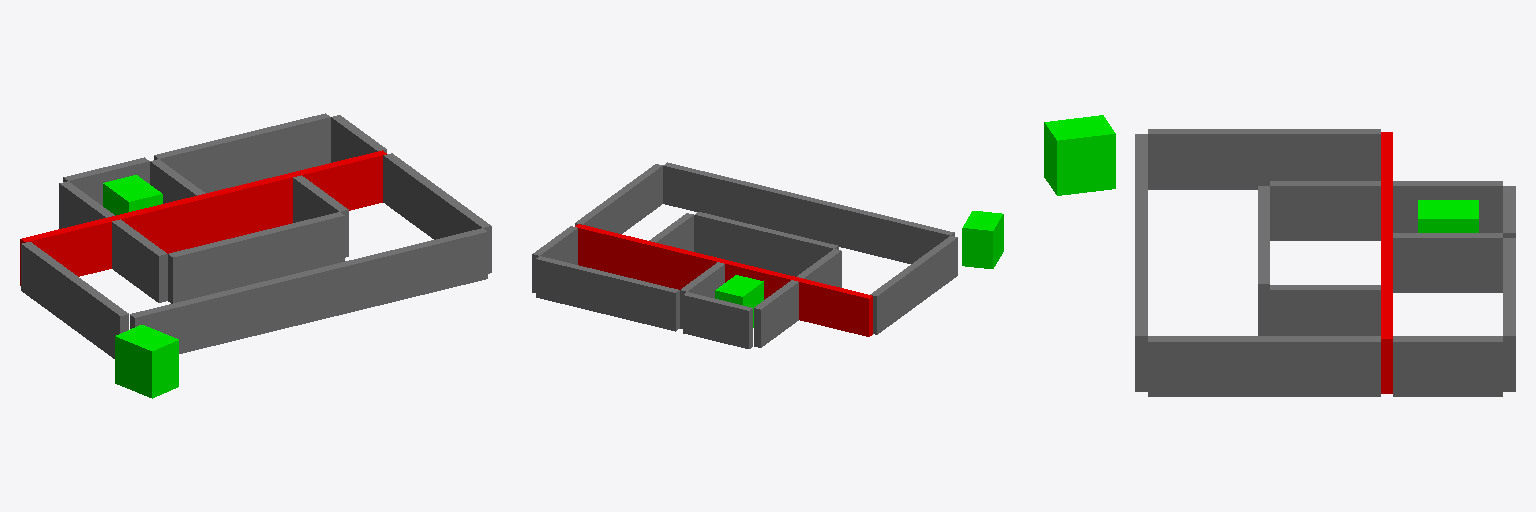
The robot description file, URDF, robot "move_n_times3":
<?xml version="1.0"?>
<!-- created with Phobos 1.0.1 "Capricious Choutengan" -->
  <robot name="move_n_times3">

    <link name="base_link">
    </link>

    <link name="goal">
    </link>

    <link name="link_0_joint_0">
      <visual name="visual_box_2_link_0">
        <origin xyz="0 0 0" rpy="0 0 0"/>
        <geometry>
          <box size="0.374 0.499 0.499"/>
        </geometry>
        <material name="green"/>
      </visual>
      <collision name="collision_box_2_link_0">
        <origin xyz="0 0 0" rpy="0 0 0"/>
        <geometry>
          <box size="0.374 0.499 0.499"/>
        </geometry>
      </collision>
    </link>

    <link name="link_0_joint_0.001">
      <visual name="visual_box_2_link_0.001">
        <origin xyz="0 0 0" rpy="0 0 0"/>
        <geometry>
          <box size="0.37363 0.4985 0.4985"/>
        </geometry>
        <material name="green_translucent"/>
      </visual>
    </link>

    <link name="link_0_joint_1">
    </link>

    <link name="link_0_joint_1.001">
    </link>

    <link name="link_0_joint_2">
    </link>

    <link name="link_1_joint_0">
      <visual name="visual_box_3_link_1">
        <origin xyz="0 0 0" rpy="0 0 0"/>
        <geometry>
          <box size="3.999 0.099 0.499"/>
        </geometry>
        <material name="red"/>
      </visual>
      <collision name="collision_box_3_link_1">
        <origin xyz="0 0 0" rpy="0 0 0"/>
        <geometry>
          <box size="3.999 0.099 0.499"/>
        </geometry>
      </collision>
    </link>

    <link name="link_fixed_10_wall_south_2">
      <visual name="visual_box_fixed_10_wall_south_2">
        <origin xyz="0 0 0" rpy="0 0 0"/>
        <geometry>
          <box size="3.899 0.099 0.499"/>
        </geometry>
        <material name="gray"/>
      </visual>
      <collision name="collision_box_fixed_10_wall_south_2">
        <origin xyz="0 0 0" rpy="0 0 0"/>
        <geometry>
          <box size="3.899 0.099 0.499"/>
        </geometry>
      </collision>
    </link>

    <link name="link_fixed_11_wall_southwest_2">
      <visual name="visual_box_fixed_11_wall_southwest_2">
        <origin xyz="0 0 0" rpy="0 0 0"/>
        <geometry>
          <box size="0.099 1.899 0.499"/>
        </geometry>
        <material name="gray"/>
      </visual>
      <collision name="collision_box_fixed_11_wall_southwest_2">
        <origin xyz="0 0 0" rpy="0 0 0"/>
        <geometry>
          <box size="0.099 1.899 0.499"/>
        </geometry>
      </collision>
    </link>

    <link name="link_fixed_12_wall_southeast_2">
      <visual name="visual_box_fixed_12_wall_southeast_2">
        <origin xyz="0 0 0" rpy="0 0 0"/>
        <geometry>
          <box size="0.099 1.899 0.499"/>
        </geometry>
        <material name="gray"/>
      </visual>
      <collision name="collision_box_fixed_12_wall_southeast_2">
        <origin xyz="0 0 0" rpy="0 0 0"/>
        <geometry>
          <box size="0.099 1.899 0.499"/>
        </geometry>
      </collision>
    </link>

    <link name="link_fixed_13_wall_north_2">
      <visual name="visual_box_fixed_13_wall_north_2">
        <origin xyz="0 0 0" rpy="0 0 0"/>
        <geometry>
          <box size="1.899 0.099 0.499"/>
        </geometry>
        <material name="gray"/>
      </visual>
      <collision name="collision_box_fixed_13_wall_north_2">
        <origin xyz="0 0 0" rpy="0 0 0"/>
        <geometry>
          <box size="1.899 0.099 0.499"/>
        </geometry>
      </collision>
    </link>

    <link name="link_fixed_14_wall_north_side_2">
      <visual name="visual_box_fixed_14_wall_north_side_2">
        <origin xyz="0 0 0" rpy="0 0 0"/>
        <geometry>
          <box size="0.099 0.899 0.499"/>
        </geometry>
        <material name="gray"/>
      </visual>
      <collision name="collision_box_fixed_14_wall_north_side_2">
        <origin xyz="0 0 0" rpy="0 0 0"/>
        <geometry>
          <box size="0.099 0.899 0.499"/>
        </geometry>
      </collision>
    </link>

    <link name="link_fixed_4_wall_north_0">
      <visual name="visual_box_fixed_4_wall_north_0">
        <origin xyz="0 0 0" rpy="0 0 0"/>
        <geometry>
          <box size="0.899 0.099 0.499"/>
        </geometry>
        <material name="gray"/>
      </visual>
      <collision name="collision_box_fixed_4_wall_north_0">
        <origin xyz="0 0 0" rpy="0 0 0"/>
        <geometry>
          <box size="0.899 0.099 0.499"/>
        </geometry>
      </collision>
    </link>

    <link name="link_fixed_5_wall_northwest_0">
      <visual name="visual_box_fixed_5_wall_northwest_0">
        <origin xyz="0 0 0" rpy="0 0 0"/>
        <geometry>
          <box size="0.099 0.899 0.499"/>
        </geometry>
        <material name="gray"/>
      </visual>
      <collision name="collision_box_fixed_5_wall_northwest_0">
        <origin xyz="0 0 0" rpy="0 0 0"/>
        <geometry>
          <box size="0.099 0.899 0.499"/>
        </geometry>
      </collision>
    </link>

    <link name="link_fixed_6_wall_northeast_0">
      <visual name="visual_box_fixed_6_wall_northeast_0">
        <origin xyz="0 0 0" rpy="0 0 0"/>
        <geometry>
          <box size="0.099 0.899 0.499"/>
        </geometry>
        <material name="gray"/>
      </visual>
      <collision name="collision_box_fixed_6_wall_northeast_0">
        <origin xyz="0 0 0" rpy="0 0 0"/>
        <geometry>
          <box size="0.099 0.899 0.499"/>
        </geometry>
      </collision>
    </link>

    <link name="link_fixed_7_wall_south_1">
      <visual name="visual_box_fixed_7_wall_south_1">
        <origin xyz="0 0 0" rpy="0 0 0"/>
        <geometry>
          <box size="1.899 0.099 0.499"/>
        </geometry>
        <material name="gray"/>
      </visual>
      <collision name="collision_box_fixed_7_wall_south_1">
        <origin xyz="0 0 0" rpy="0 0 0"/>
        <geometry>
          <box size="1.899 0.099 0.499"/>
        </geometry>
      </collision>
    </link>

    <link name="link_fixed_8_wall_southwest_1">
      <visual name="visual_box_fixed_8_wall_southwest_1">
        <origin xyz="0 0 0" rpy="0 0 0"/>
        <geometry>
          <box size="0.099 0.899 0.499"/>
        </geometry>
        <material name="gray"/>
      </visual>
      <collision name="collision_box_fixed_8_wall_southwest_1">
        <origin xyz="0 0 0" rpy="0 0 0"/>
        <geometry>
          <box size="0.099 0.899 0.499"/>
        </geometry>
      </collision>
    </link>

    <link name="link_fixed_9_wall_southeast_1">
      <visual name="visual_box_fixed_9_wall_southeast_1">
        <origin xyz="0 0 0" rpy="0 0 0"/>
        <geometry>
          <box size="0.099 0.899 0.499"/>
        </geometry>
        <material name="gray"/>
      </visual>
      <collision name="collision_box_fixed_9_wall_southeast_1">
        <origin xyz="0 0 0" rpy="0 0 0"/>
        <geometry>
          <box size="0.099 0.899 0.499"/>
        </geometry>
      </collision>
    </link>

    <joint name="goal" type="fixed">
      <origin xyz="-1.57221 -3.0 0.25" rpy="0 0 0.27791"/>
      <parent link="base_link"/>
      <child link="goal"/>
      <limit effort="0" velocity="0"/>
    </joint>

    <joint name="link_0_joint_0" type="revolute">
      <origin xyz="0 0 0" rpy="0 0 0"/>
      <parent link="link_0_joint_1"/>
      <child link="link_0_joint_0"/>
      <axis xyz="0 0 1.0"/>
      <limit lower="-3.14159" upper="3.14159" effort="0" velocity="0"/>
    </joint>

    <joint name="link_0_joint_0.001" type="fixed">
      <origin xyz="0 0 0" rpy="0 0 0"/>
      <parent link="link_0_joint_1.001"/>
      <child link="link_0_joint_0.001"/>
      <limit effort="0" velocity="0"/>
    </joint>

    <joint name="link_0_joint_1" type="prismatic">
      <origin xyz="0 0 0" rpy="0 0 0"/>
      <parent link="link_0_joint_2"/>
      <child link="link_0_joint_1"/>
      <axis xyz="0 1.0 0"/>
      <limit lower="-3.0" upper="0.5" effort="0" velocity="0"/>
    </joint>

    <joint name="link_0_joint_1.001" type="fixed">
      <origin xyz="0 0 0" rpy="0 0 0"/>
      <parent link="goal"/>
      <child link="link_0_joint_1.001"/>
      <limit effort="0" velocity="0"/>
    </joint>

    <joint name="link_0_joint_2" type="prismatic">
      <origin xyz="0 0 0.25" rpy="0 0 0"/>
      <parent link="base_link"/>
      <child link="link_0_joint_2"/>
      <axis xyz="1.0 0 0"/>
      <limit lower="-3.0" upper="3.0" effort="0" velocity="0"/>
    </joint>

    <joint name="link_1_joint_0" type="prismatic">
      <origin xyz="0.5 -0.5 0.25" rpy="0 0 0"/>
      <parent link="base_link"/>
      <child link="link_1_joint_0"/>
      <axis xyz="1.0 0 0"/>
      <limit lower="-2.0" upper="2.0" effort="0" velocity="0"/>
    </joint>

    <joint name="link_fixed_10_wall_south_2" type="fixed">
      <origin xyz="0.5 -2.5 0.25" rpy="0 0 0"/>
      <parent link="base_link"/>
      <child link="link_fixed_10_wall_south_2"/>
    </joint>

    <joint name="link_fixed_11_wall_southwest_2" type="fixed">
      <origin xyz="-1.5 -1.5 0.25" rpy="0 0 0"/>
      <parent link="base_link"/>
      <child link="link_fixed_11_wall_southwest_2"/>
    </joint>

    <joint name="link_fixed_12_wall_southeast_2" type="fixed">
      <origin xyz="2.5 -1.5 0.25" rpy="0 0 0"/>
      <parent link="base_link"/>
      <child link="link_fixed_12_wall_southeast_2"/>
    </joint>

    <joint name="link_fixed_13_wall_north_2" type="fixed">
      <origin xyz="1.5 0.5 0.25" rpy="0 0 0"/>
      <parent link="base_link"/>
      <child link="link_fixed_13_wall_north_2"/>
    </joint>

    <joint name="link_fixed_14_wall_north_side_2" type="fixed">
      <origin xyz="2.5 0 0.25" rpy="0 0 0"/>
      <parent link="base_link"/>
      <child link="link_fixed_14_wall_north_side_2"/>
    </joint>

    <joint name="link_fixed_4_wall_north_0" type="fixed">
      <origin xyz="0 0.5 0.25" rpy="0 0 0"/>
      <parent link="base_link"/>
      <child link="link_fixed_4_wall_north_0"/>
    </joint>

    <joint name="link_fixed_5_wall_northwest_0" type="fixed">
      <origin xyz="-0.5 0 0.25" rpy="0 0 0"/>
      <parent link="base_link"/>
      <child link="link_fixed_5_wall_northwest_0"/>
    </joint>

    <joint name="link_fixed_6_wall_northeast_0" type="fixed">
      <origin xyz="0.5 0 0.25" rpy="0 0 0"/>
      <parent link="base_link"/>
      <child link="link_fixed_6_wall_northeast_0"/>
    </joint>

    <joint name="link_fixed_7_wall_south_1" type="fixed">
      <origin xyz="0.5 -1.5 0.25" rpy="0 0 0"/>
      <parent link="base_link"/>
      <child link="link_fixed_7_wall_south_1"/>
    </joint>

    <joint name="link_fixed_8_wall_southwest_1" type="fixed">
      <origin xyz="-0.5 -1.0 0.25" rpy="0 0 0"/>
      <parent link="base_link"/>
      <child link="link_fixed_8_wall_southwest_1"/>
    </joint>

    <joint name="link_fixed_9_wall_southeast_1" type="fixed">
      <origin xyz="1.5 -1.0 0.25" rpy="0 0 0"/>
      <parent link="base_link"/>
      <child link="link_fixed_9_wall_southeast_1"/>
    </joint>

    <material name="gray">
      <color rgba="0.5 0.5 0.5 1.0"/>
    </material>

    <material name="green">
      <color rgba="0 1.0 0 1.0"/>
    </material>

    <material name="green_translucent">
      <color rgba="0 1.0 0 0.25"/>
    </material>

    <material name="red">
      <color rgba="1.0 0 0 1.0"/>
    </material>

  </robot>

--- What the picture shows (computed from the rendered views, not written in the file) ---
The picture shows the robot from 3 angles, left to right: view 1: azimuth 30°, elevation 25°; view 2: azimuth 150°, elevation 25°; view 3: azimuth 270°, elevation 25°; orthographic projection.
Model move_n_times3 with 19 links and 18 joints (1 revolute, 3 prismatic, 14 fixed), rooted at base_link, posed every joint at zero.
Visible links, largest first — view 1: link_fixed_10_wall_south_2, link_1_joint_0, link_fixed_7_wall_south_1, link_fixed_13_wall_north_2, link_fixed_11_wall_southwest_2, link_fixed_12_wall_southeast_2, link_0_joint_0.001, link_fixed_8_wall_southwest_1, link_0_joint_0, link_fixed_9_wall_southeast_1, link_fixed_4_wall_north_0, link_fixed_5_wall_northwest_0 (+2 smaller); view 2: link_fixed_10_wall_south_2, link_1_joint_0, link_fixed_13_wall_north_2, link_fixed_7_wall_south_1, link_fixed_11_wall_southwest_2, link_fixed_4_wall_north_0, link_fixed_12_wall_southeast_2, link_0_joint_0.001, link_fixed_5_wall_northwest_0, link_0_joint_0, link_fixed_14_wall_north_side_2, link_fixed_8_wall_southwest_1 (+2 smaller); view 3: link_fixed_12_wall_southeast_2, link_fixed_11_wall_southwest_2, link_fixed_14_wall_north_side_2, link_fixed_8_wall_southwest_1, link_fixed_6_wall_northeast_0, link_fixed_9_wall_southeast_1, link_0_joint_0.001, link_fixed_5_wall_northwest_0, link_fixed_10_wall_south_2, link_1_joint_0, link_0_joint_0, link_fixed_13_wall_north_2 (+2 smaller).
Link boxes in pixels (x1,y1,x2,y2): link_fixed_10_wall_south_2: (130,228,487,353); link_1_joint_0: (20,150,386,285); link_fixed_7_wall_south_1: (168,212,344,303); link_fixed_13_wall_north_2: (154,113,330,192); link_fixed_11_wall_southwest_2: (21,242,128,358); link_fixed_12_wall_southeast_2: (383,153,491,273); link_0_joint_0.001: (115,325,178,398); link_fixed_8_wall_southwest_1: (112,219,167,302); link_0_joint_0: (103,175,162,215); link_fixed_9_wall_southeast_1: (293,175,348,257); link_fixed_4_wall_north_0: (63,157,149,205); link_fixed_5_wall_northwest_0: (59,181,114,228); link_fixed_10_wall_south_2: (663,162,954,263); link_1_joint_0: (575,224,872,336); link_fixed_13_wall_north_2: (536,256,679,331); link_fixed_7_wall_south_1: (694,212,838,276); link_fixed_11_wall_southwest_2: (870,236,957,334); link_fixed_4_wall_north_0: (683,292,752,348); link_fixed_12_wall_southeast_2: (575,164,662,233); link_0_joint_0.001: (962,211,1003,268); link_fixed_5_wall_northwest_0: (754,280,798,347); link_0_joint_0: (715,275,763,327); link_fixed_14_wall_north_side_2: (532,226,577,292); link_fixed_8_wall_southwest_1: (797,249,841,287); link_fixed_12_wall_southeast_2: (1148,336,1380,396); link_fixed_11_wall_southwest_2: (1148,129,1380,189); link_fixed_14_wall_north_side_2: (1393,336,1502,396); link_fixed_8_wall_southwest_1: (1270,181,1380,240); link_fixed_6_wall_northeast_0: (1393,233,1502,292); link_fixed_9_wall_southeast_1: (1270,285,1380,335); link_0_joint_0.001: (1044,115,1115,195); link_fixed_5_wall_northwest_0: (1393,181,1502,232); link_fixed_10_wall_south_2: (1135,134,1147,391); link_1_joint_0: (1381,132,1392,393); link_0_joint_0: (1418,200,1478,232); link_fixed_13_wall_north_2: (1503,238,1515,391).
Bounding box of the posed robot: 4.37 × 3.84 × 0.499 m (x, y, z).
Geometry: primitives only (box / cylinder / sphere), no mesh files.